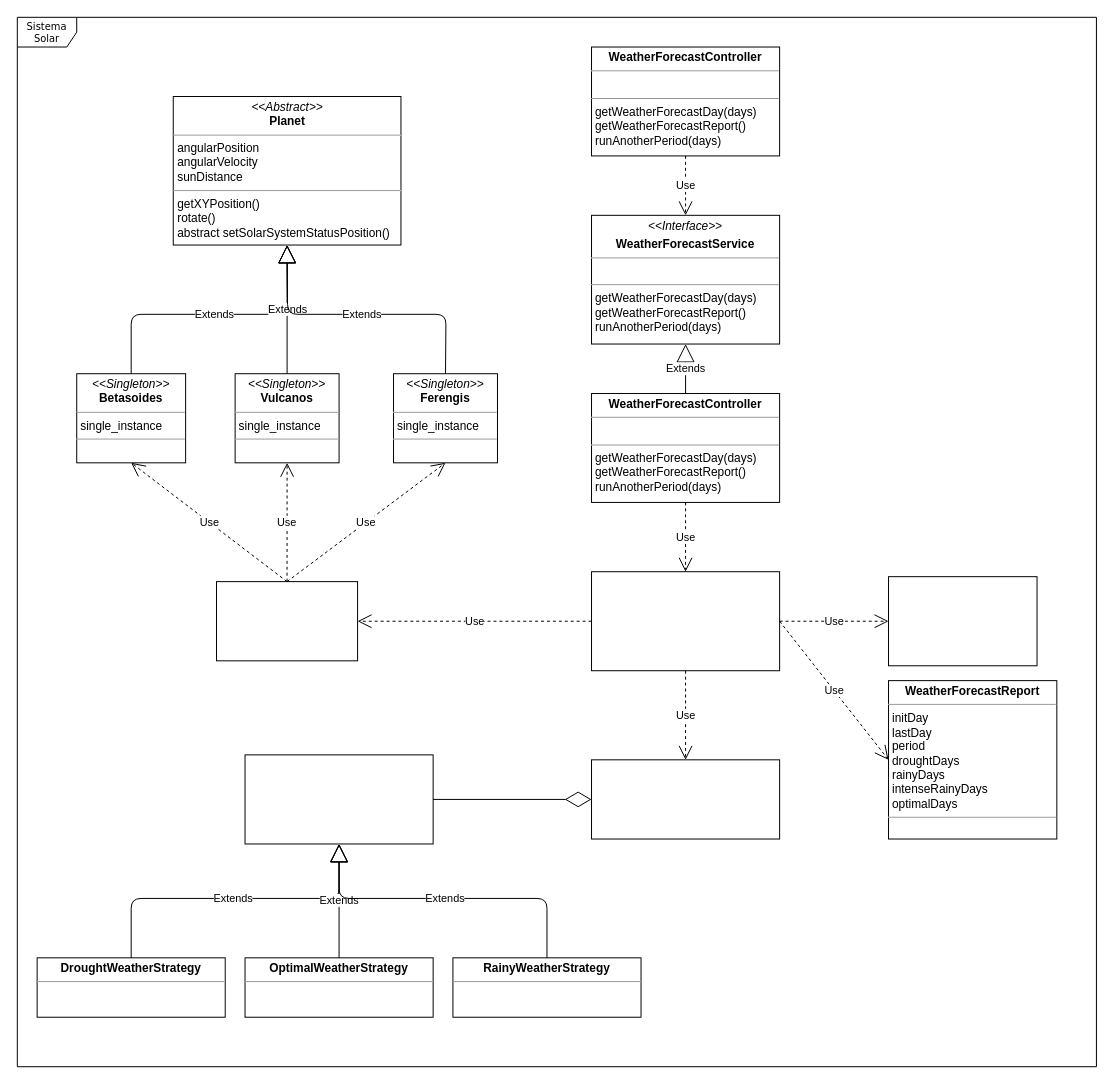
Image size: 1114x1084. Some labels were removed from this diagram. Here are the shapes that lost their labels. From the top down, the centre of each, then its label:
the point at 287,621: PlanetFactory
the point at 685,621: SolarSystem List planets initSolarSystem() runOneDayWeatherForecast()
the point at 962,621: WeatherForecast date weatherForecastType
the point at 338,799: <<Interface>> WeatherForecastStrategy fitsPrediction() getWeatherForecast()
the point at 685,799: WeatherForecastManager strategyList getWeatherForecast()
